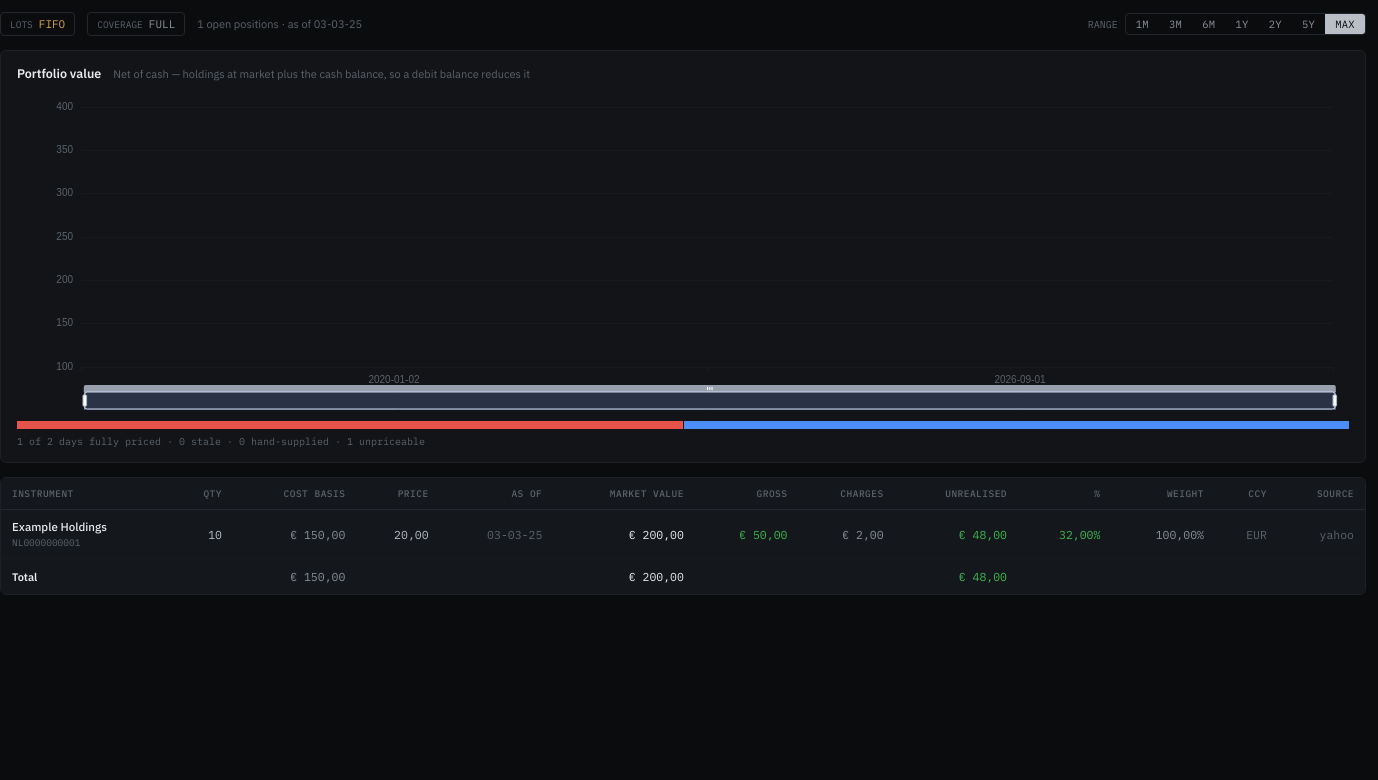
Test: the range control › recomputes the coverage strip over the narrowed window
This screenshot has width=1378, height=780.
Expected: the text "1 unpriceable" is shown, [17, 435, 425, 448]
Click the button "1M" at [1142, 24], box [1126, 14, 1159, 34]
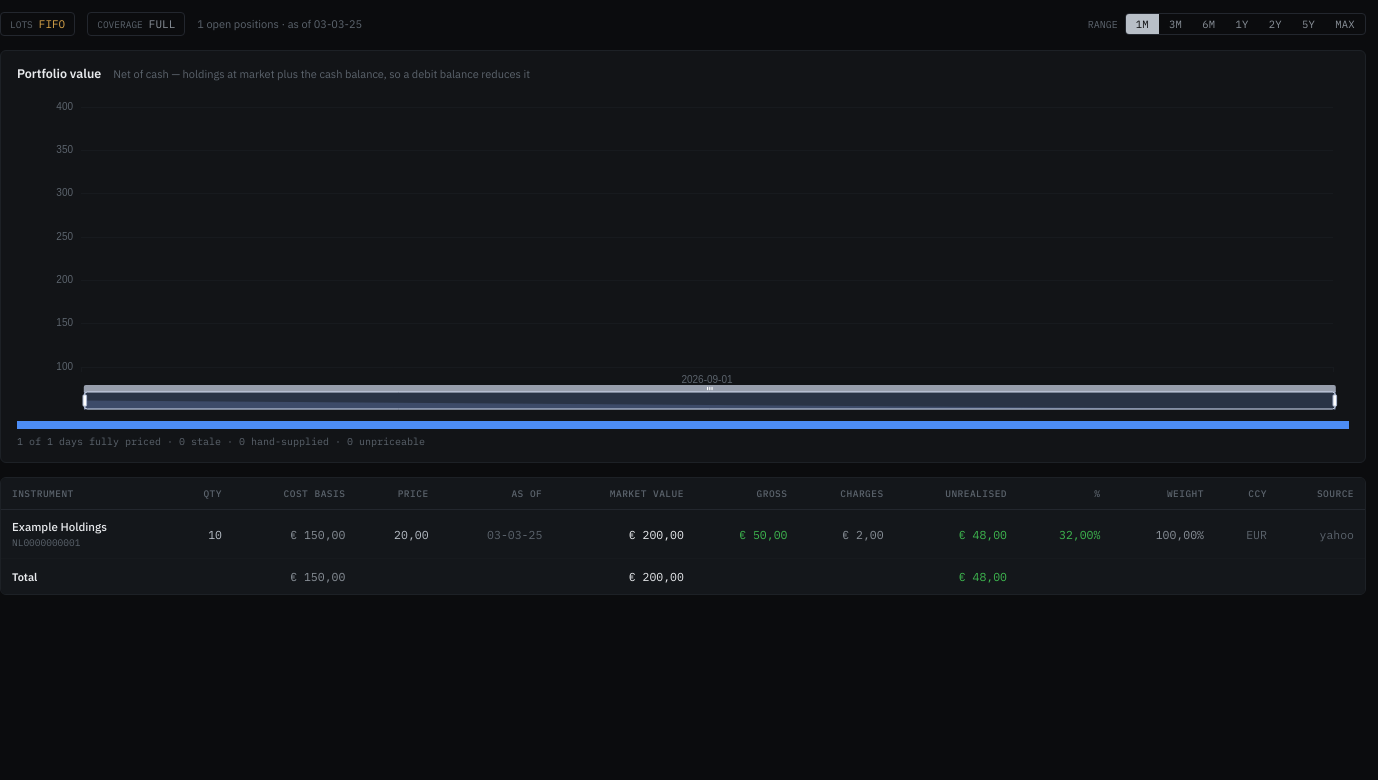
Result: the text "0 unpriceable" is shown at [17, 435, 425, 448]
